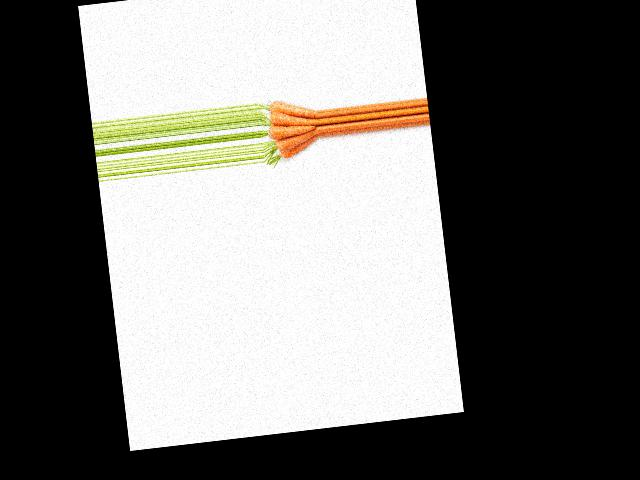carrot: (278, 134, 321, 164)
